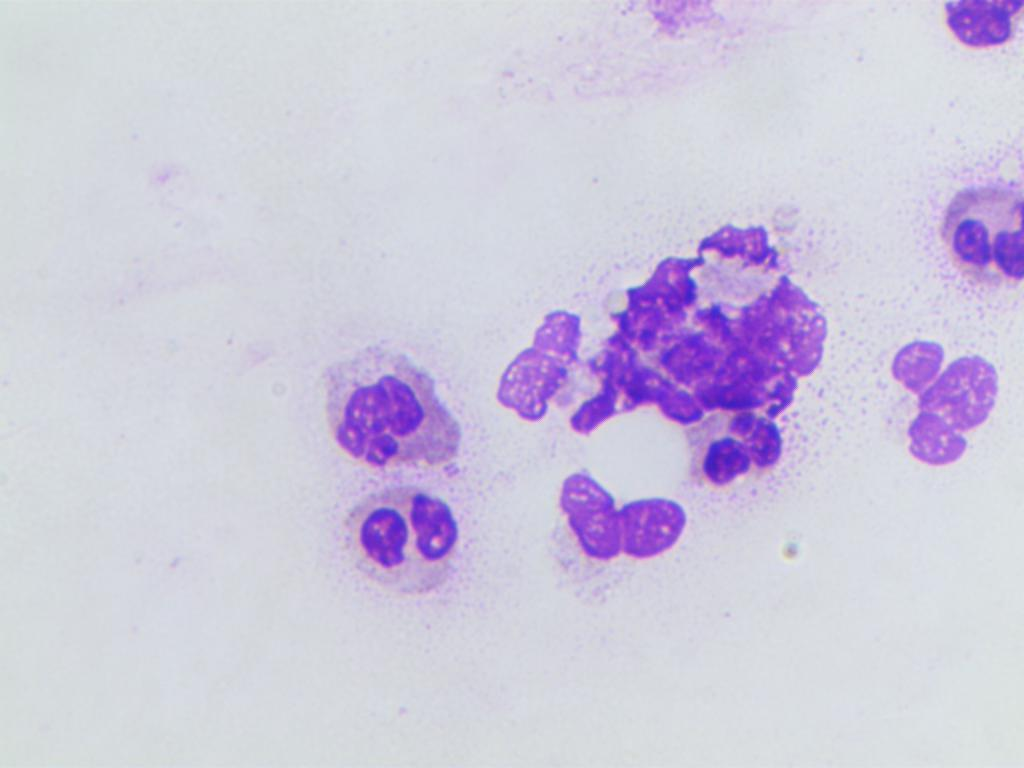epithelial: (917, 329, 1003, 444), (543, 464, 625, 566), (625, 488, 689, 583), (885, 322, 948, 404), (902, 418, 985, 478)
neutrophil: (307, 340, 472, 470), (315, 480, 477, 602), (935, 158, 1024, 298), (677, 404, 800, 502)
